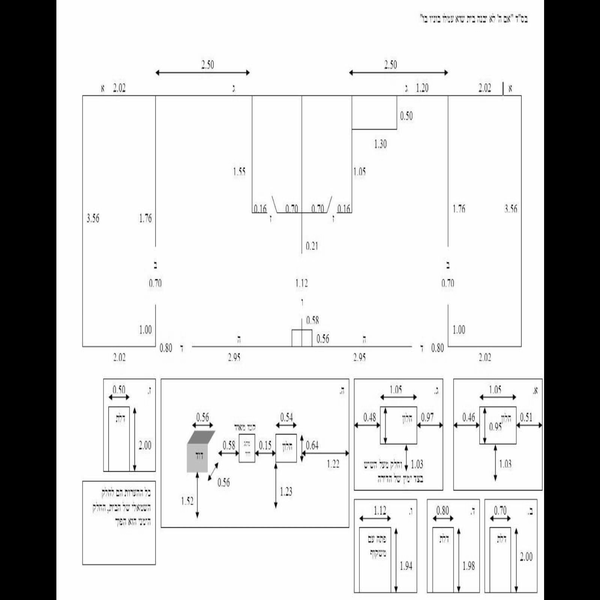room: (356, 375, 448, 491)
